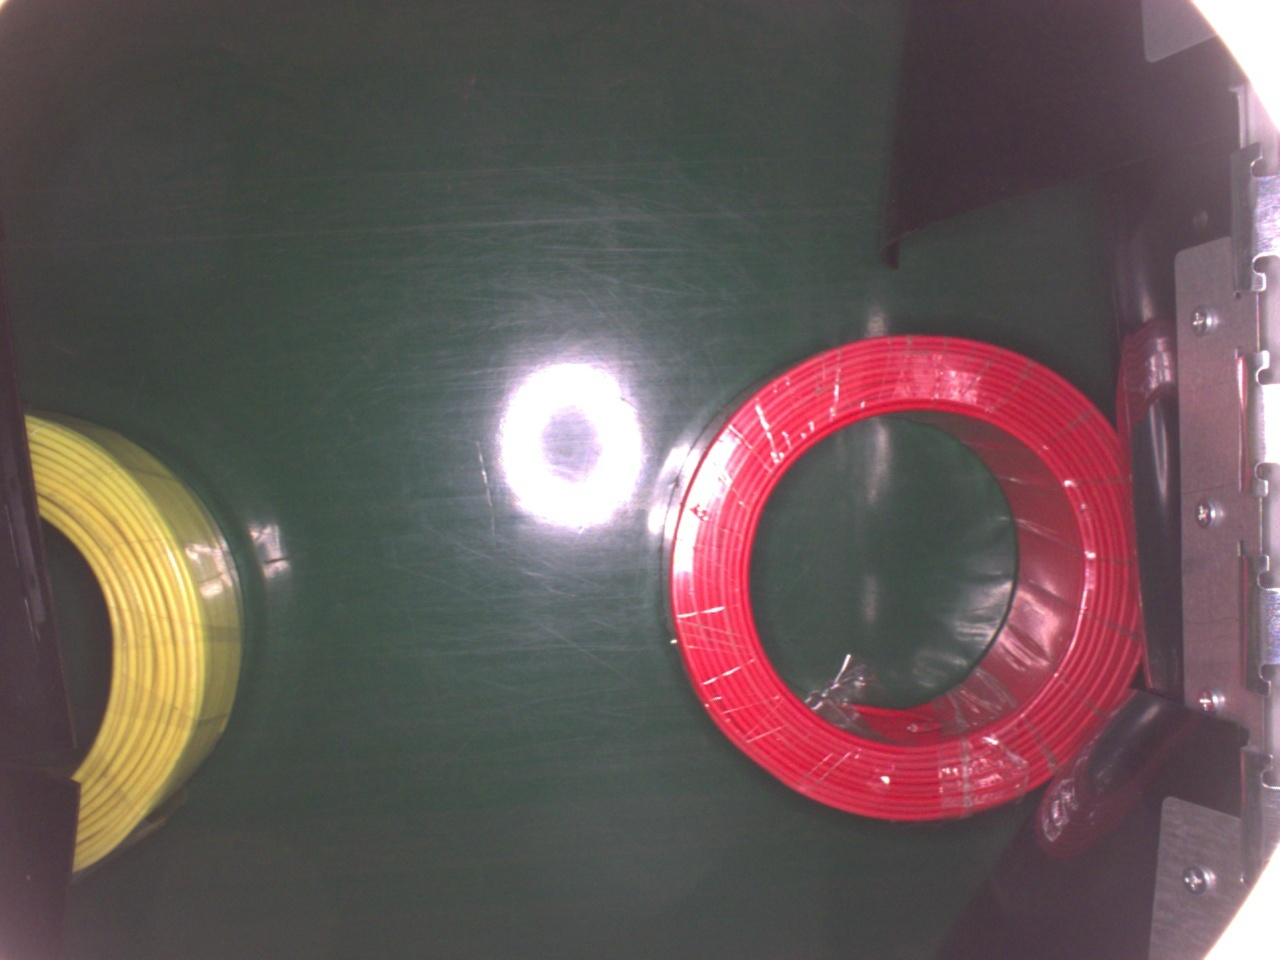red: (656, 330, 1155, 838)
yellow: (21, 403, 251, 888)
